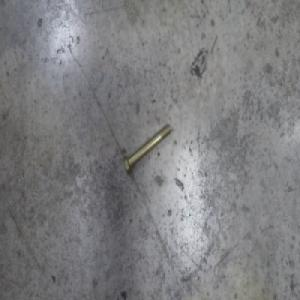Bolt: (122, 121, 172, 178)
